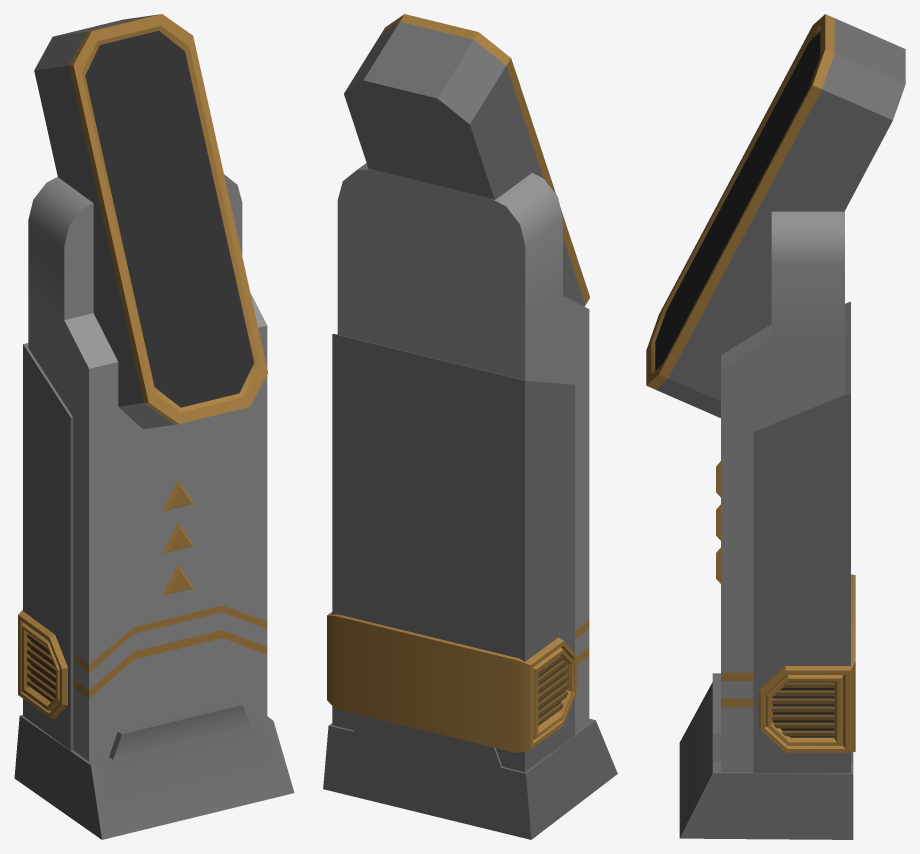
File: computer.glb
3 views of the same model, side by side, from view 1: azimuth 30°, elevation 25°; view 2: azimuth 150°, elevation 25°; view 3: azimuth 270°, elevation 25° (orthographic). The views are drawn at different scales.
Parts seen in each view (by area): view 1: Props_Computer; view 2: Props_Computer; view 3: Props_Computer.
Boxes of the visible parts, bbox=[...] form: Props_Computer: bbox=[14, 14, 294, 839]; Props_Computer: bbox=[323, 14, 617, 839]; Props_Computer: bbox=[646, 14, 905, 839].
Size of the model in its own units: 0.5804 by 2.08 by 0.6441.
